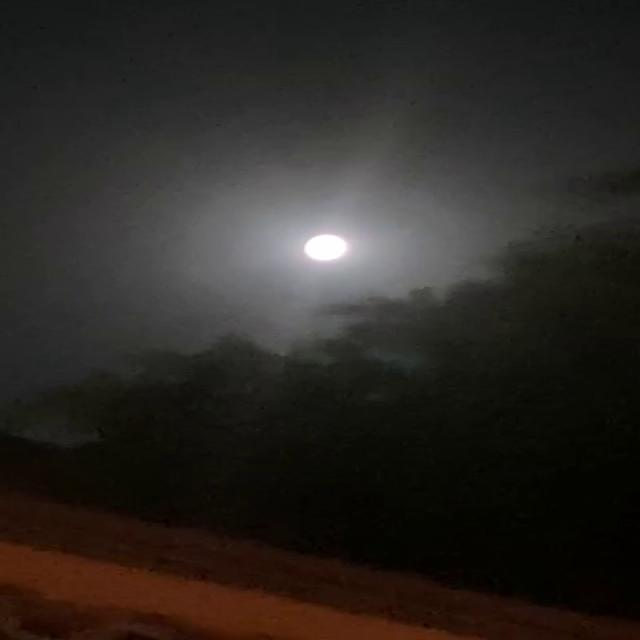moon: (285, 227, 368, 271)
